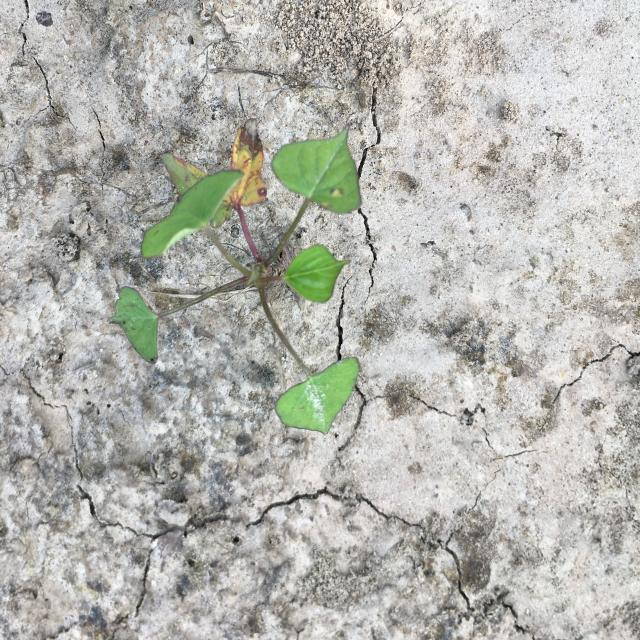MorningGlory: (107, 118, 363, 436)
